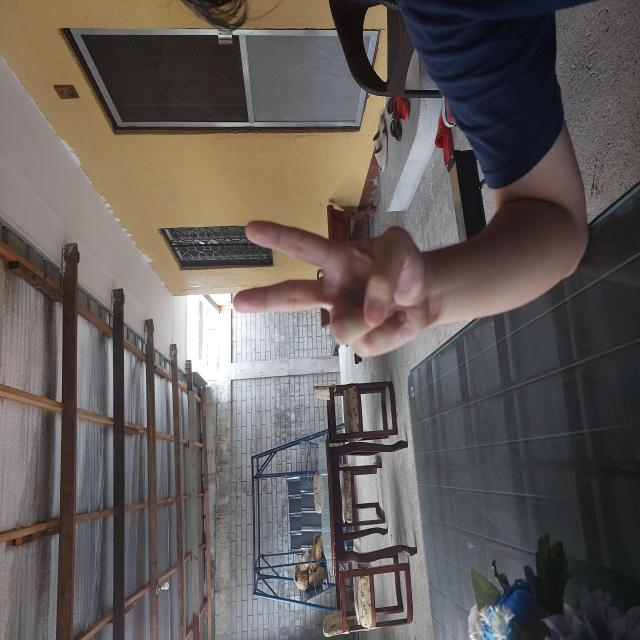V: (278, 228, 424, 435)
